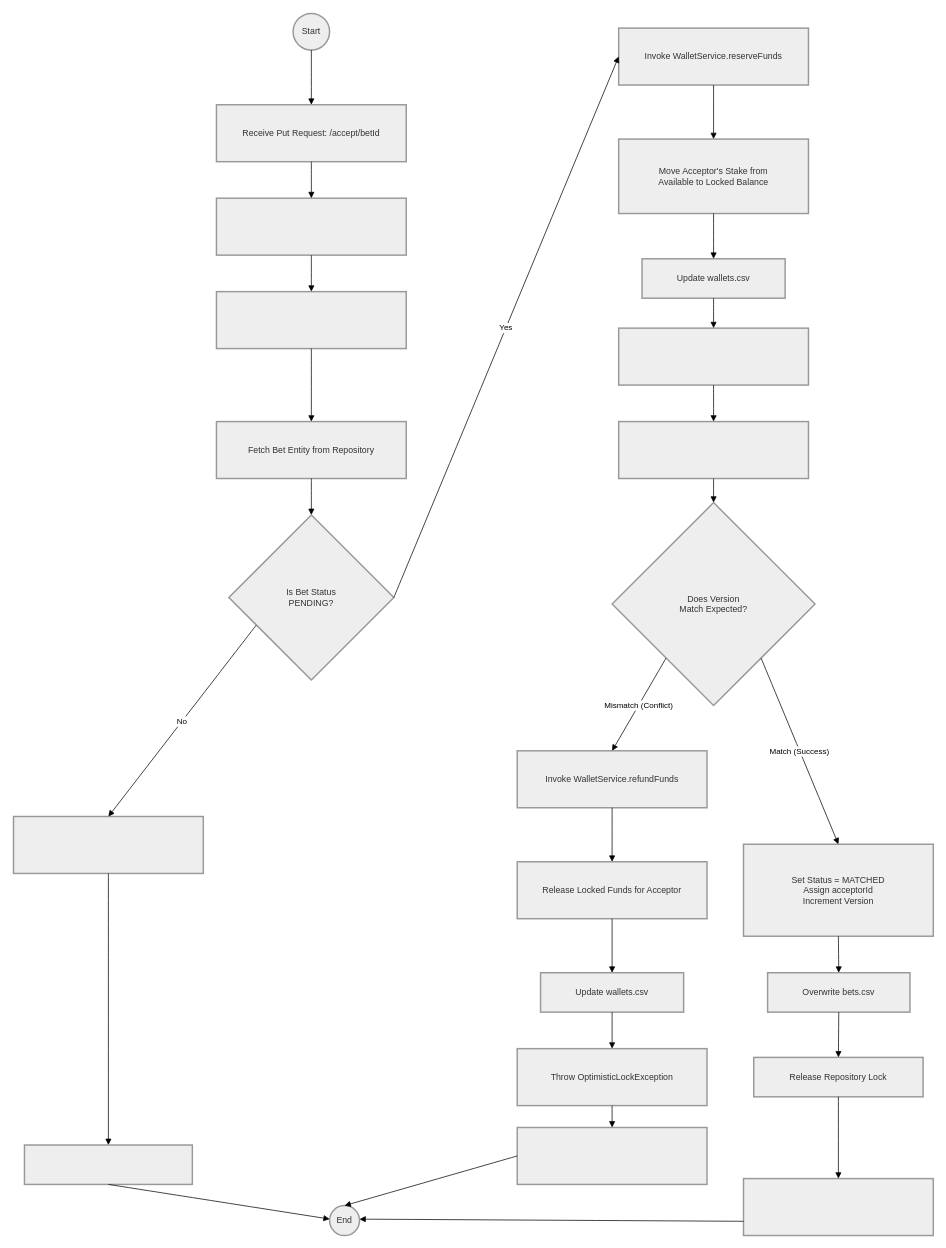
Some shapes in this 946 by 1248 pixel diagram are drawn without their labels. Each missing label, with the centre of its shape:
"Acquire Repository ReentrantLock" goes at point (713, 356).
"Get Latest Bet State from Memory Cache" goes at point (713, 449).
"Invoke BetService.acceptOffer" goes at point (311, 320).
"Map to Request DTO & Authenticate Acceptor" goes at point (311, 226).
"Return 200 OK: Match Confirmed" goes at point (838, 1206).
"Return 400 Bad Request" goes at point (108, 1164).
"Return 409 Conflict: Bet already taken" goes at point (611, 1155).
"Throw InvalidStateException" goes at point (108, 844).
